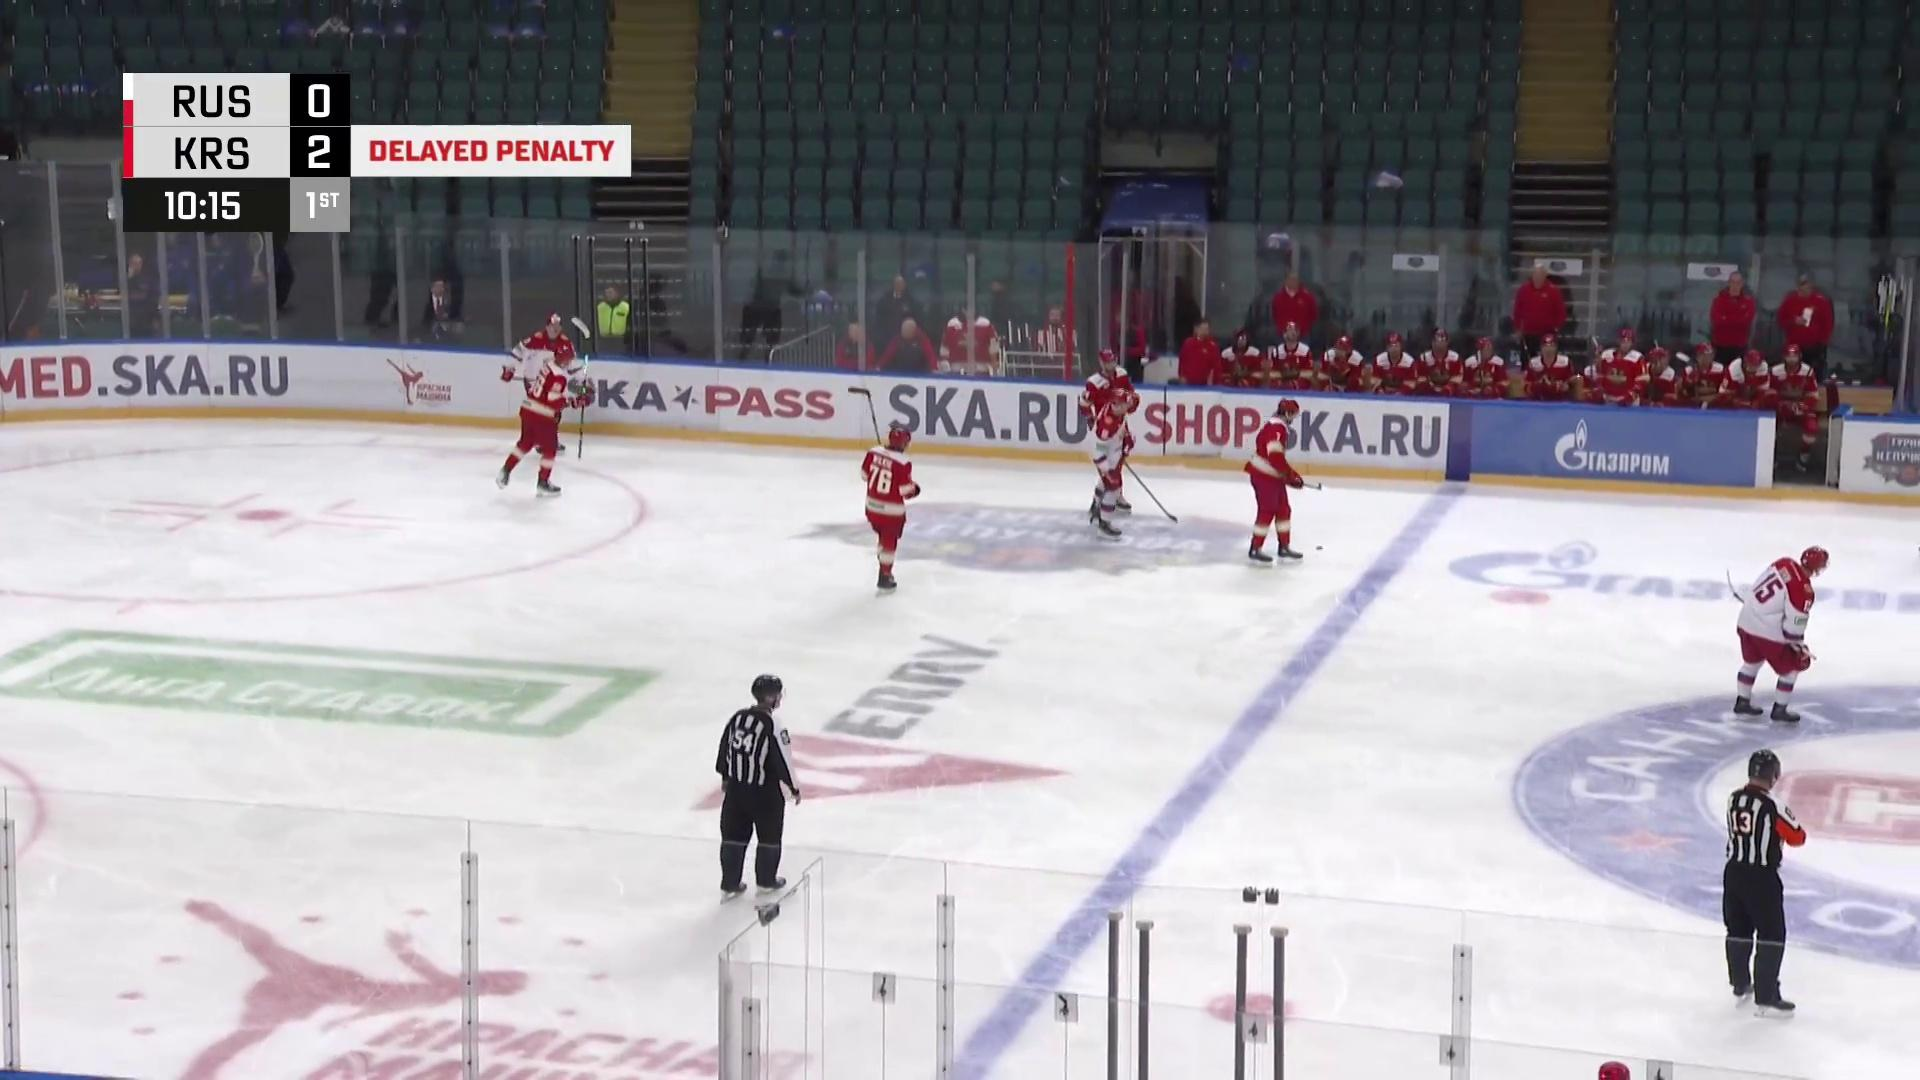ball: (1313, 543, 1325, 553)
